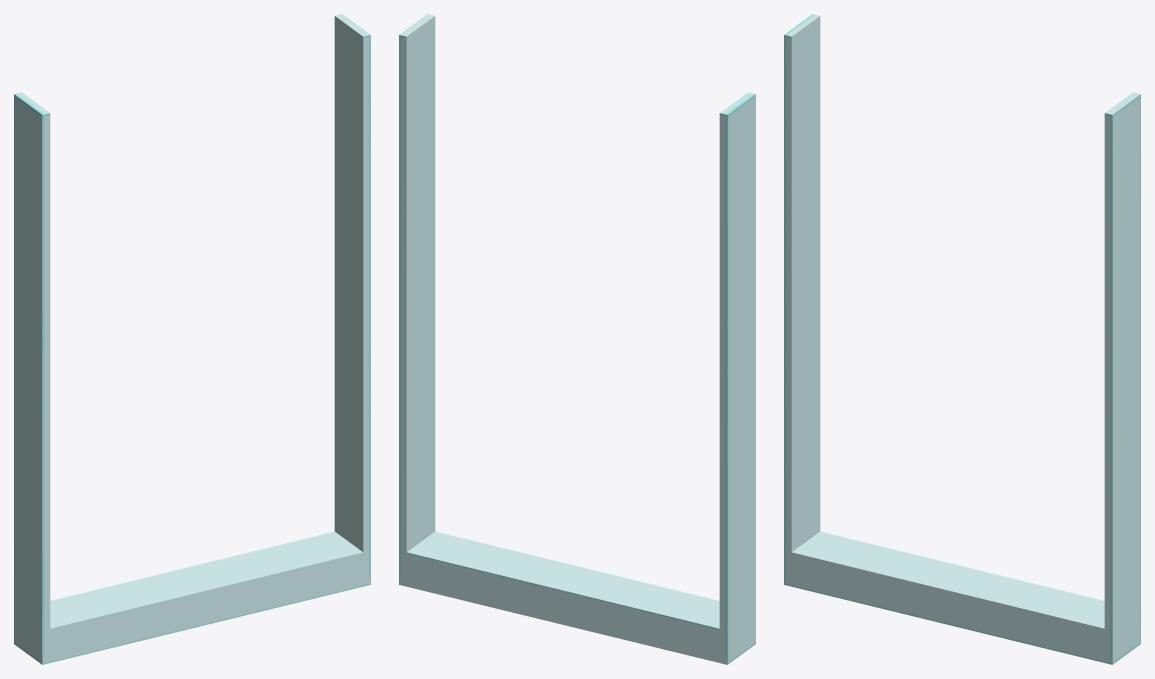
Rendered from PowerRoom_Stairs_08.fbx.
3 renders of one model, left to right at view 1: azimuth 30°, elevation 25°; view 2: azimuth 150°, elevation 25°; view 3: azimuth 330°, elevation 25°, orthographic.
Parts seen in each view (by area): view 1: PowerRoom_Stairs_08; view 2: PowerRoom_Stairs_08; view 3: PowerRoom_Stairs_08.
Part boxes in pixels (left/top/right/bottom): PowerRoom_Stairs_08: left=14, top=14, right=370, bottom=664; PowerRoom_Stairs_08: left=399, top=14, right=755, bottom=664; PowerRoom_Stairs_08: left=784, top=14, right=1140, bottom=664.
Size of the model in its own units: 2 by 3.2 by 0.3.
